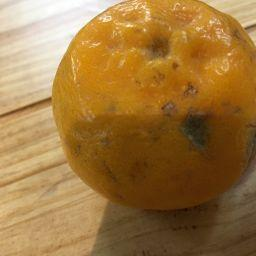Unripe: (51, 0, 256, 208)
